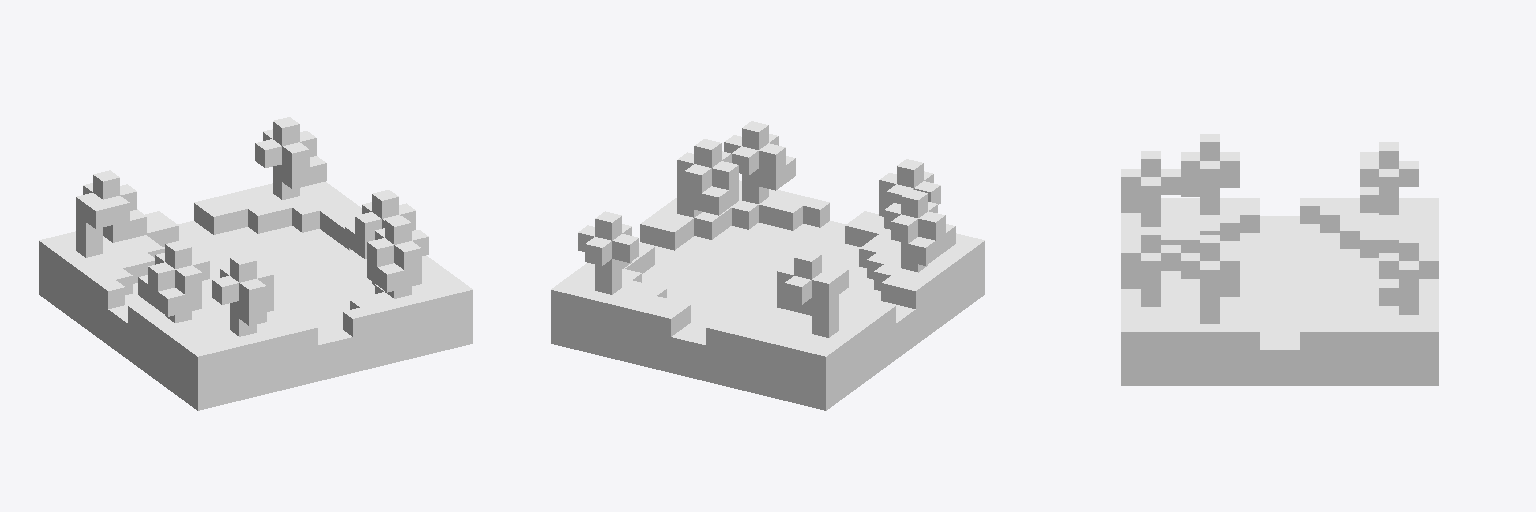
3 renders of one model, left to right at view 1: azimuth 30°, elevation 25°; view 2: azimuth 150°, elevation 25°; view 3: azimuth 270°, elevation 25°, orthographic.
Parts seen in each view (by area): view 1: XJunction; view 2: XJunction; view 3: XJunction.
Part boxes in pixels (x1,y1,x2,y2): XJunction: (39,117,472,410); XJunction: (551,121,984,410); XJunction: (1121,134,1438,385).
Bounding box in the file's own units: 16 × 7 × 16.